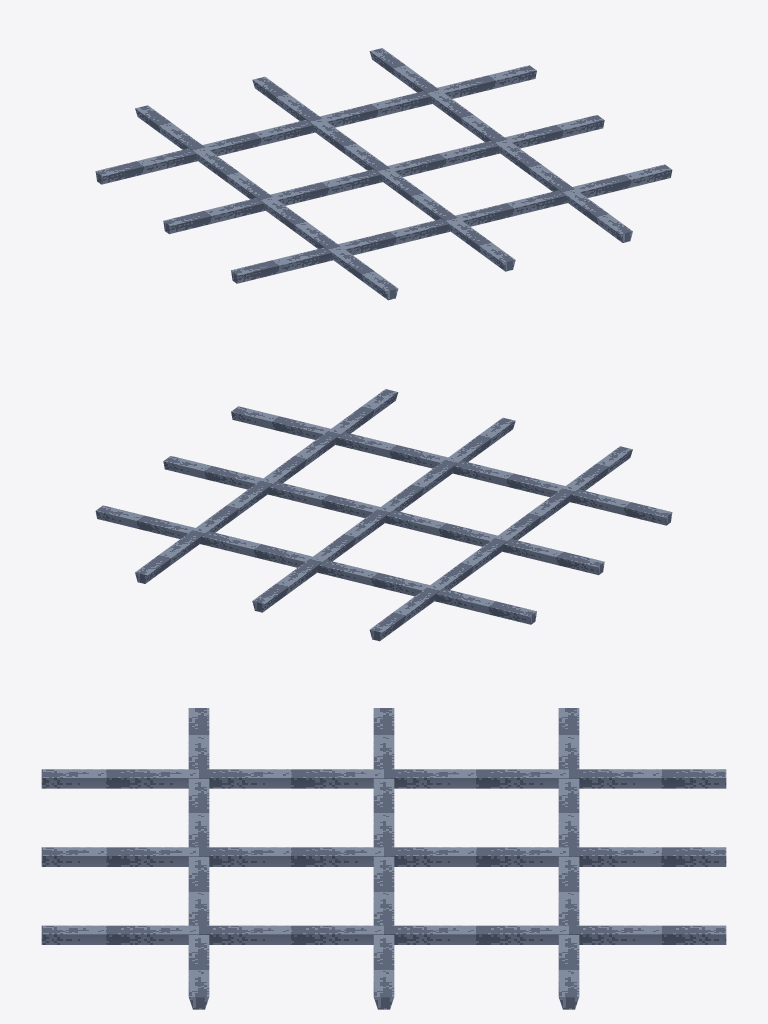
Rendered from stn.ceiling__hangar.glb.
3 renders of one model, top to bottom at view 1: azimuth 30°, elevation 25°; view 2: azimuth 150°, elevation 25°; view 3: azimuth 270°, elevation 25°, orthographic. The views are drawn at different scales.
Parts seen in each view (by area): view 1: kit_beams; view 2: kit_beams; view 3: kit_beams.
Boxes of the visible parts, box(x1,y1,x2,y2) form: kit_beams: box(95, 48, 672, 300); kit_beams: box(95, 389, 672, 641); kit_beams: box(41, 708, 726, 1009).
Bounding box in the file's own units: 16 × 0.32 × 16.
Materials: 3 (3 with a texture image).
